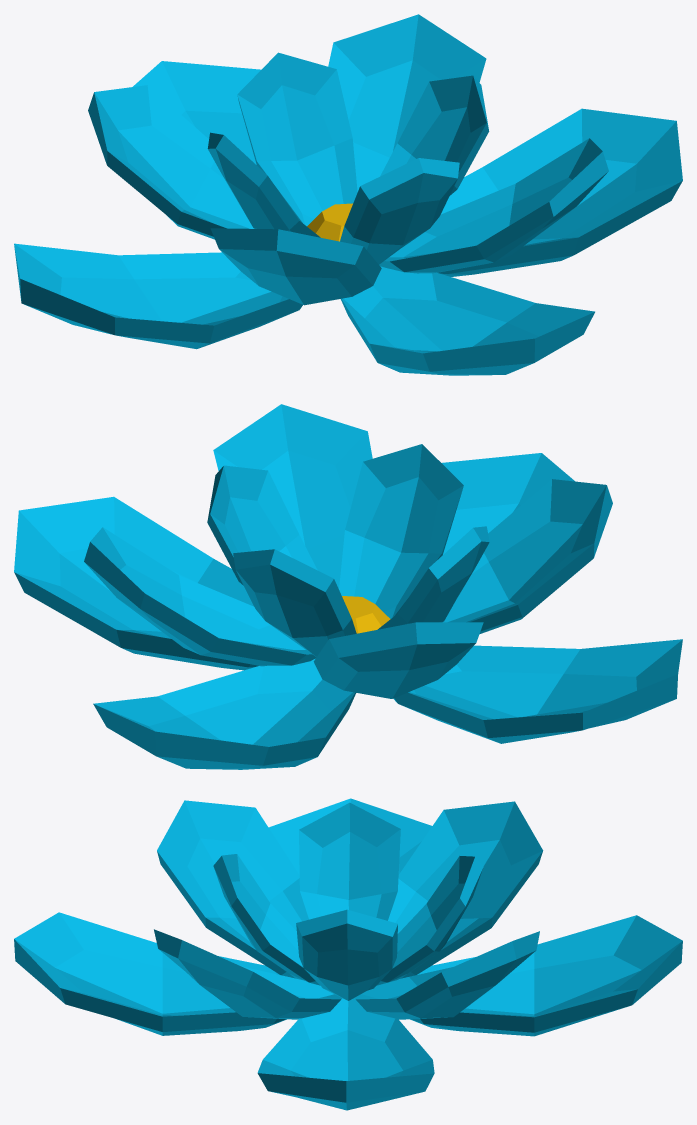
File: FBLUE.fbx
The picture shows the model from 3 angles, top to bottom: view 1: azimuth 30°, elevation 25°; view 2: azimuth 150°, elevation 25°; view 3: azimuth 270°, elevation 25°; orthographic projection. The views are drawn at different scales.
Parts seen in each view (by area): view 1: pCube21 (×6), pCube22 (×6), yellow_gem3; view 2: pCube22 (×6), pCube21 (×6), yellow_gem3; view 3: pCube22 (×6), pCube21 (×6).
Boxes of the visible parts, left/top/right/bottom form: pCube21 (×6): left=14, top=75, right=682, bottom=349; pCube22 (×6): left=133, top=14, right=594, bottom=375; yellow_gem3: left=307, top=203, right=352, bottom=241; pCube22 (×6): left=84, top=444, right=612, bottom=769; pCube21 (×6): left=14, top=404, right=682, bottom=743; yellow_gem3: left=342, top=596, right=390, bottom=633; pCube22 (×6): left=14, top=800, right=682, bottom=1036; pCube21 (×6): left=154, top=798, right=543, bottom=1110.
Size of the model in its own units: 41.24 by 11.69 by 41.24.
